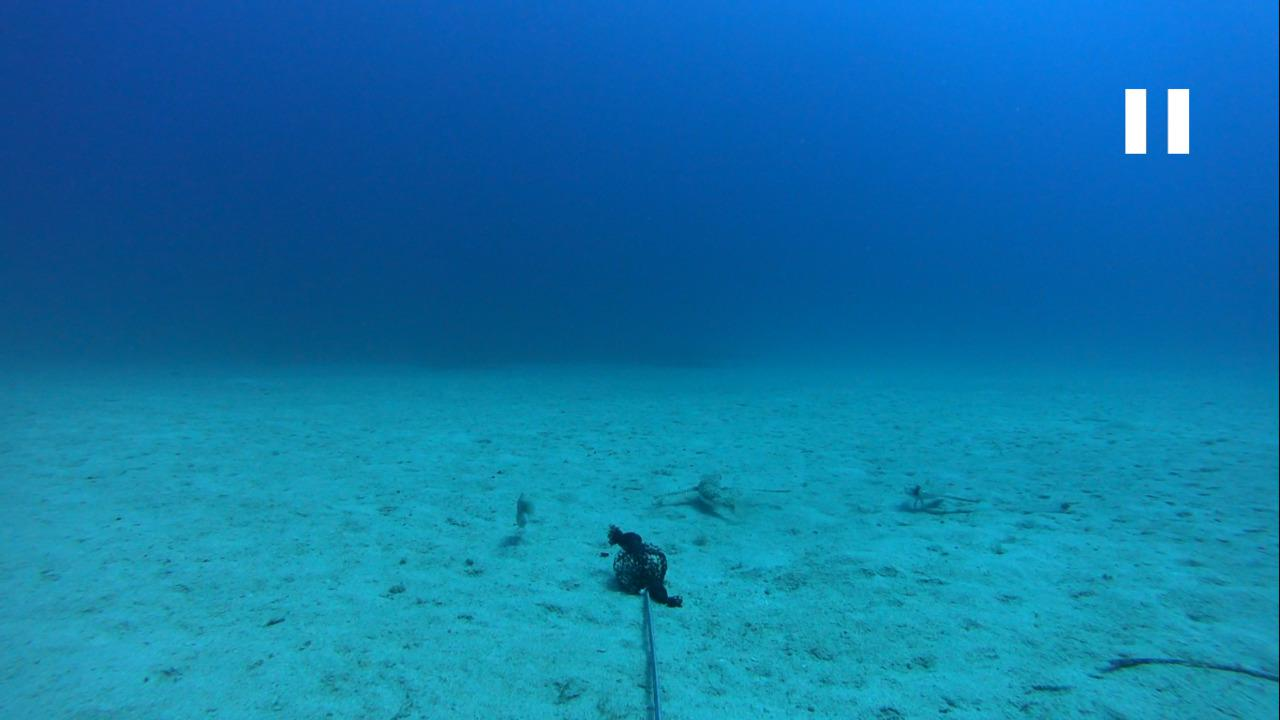bothus: (982, 497, 1080, 518)
dactylopterus: (660, 465, 781, 526), (889, 478, 981, 519)
raor: (508, 489, 538, 539)
